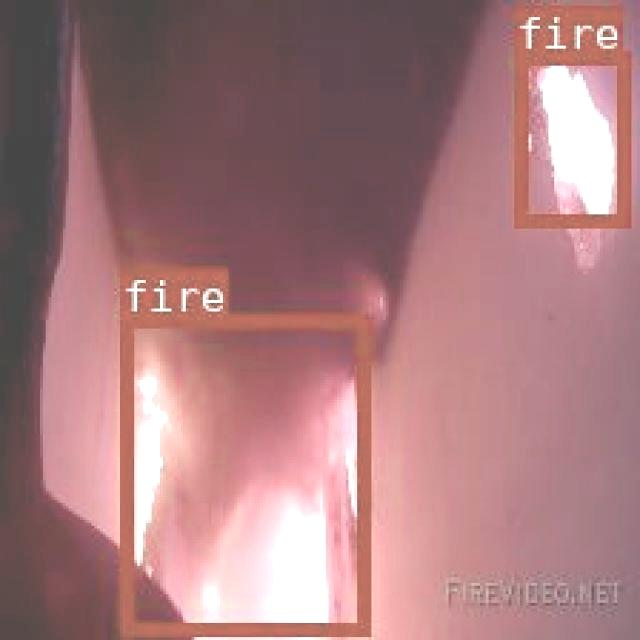fire: (118, 314, 368, 632), (512, 48, 626, 225)
